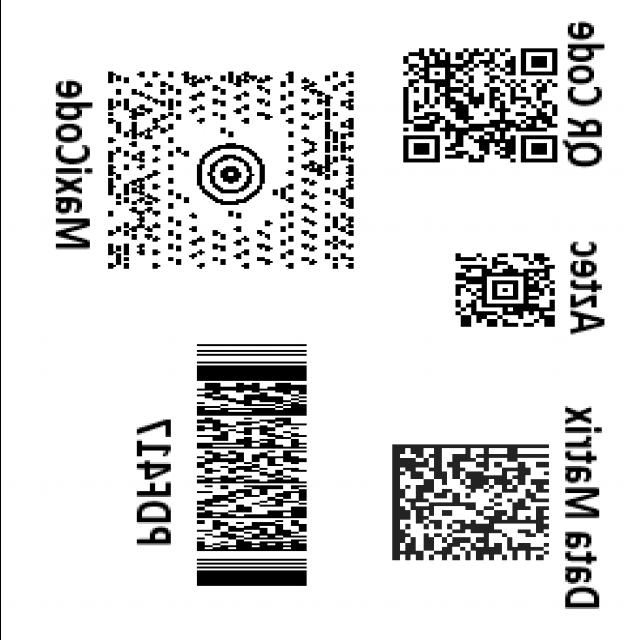DataMatrix: (376, 439, 556, 568)
